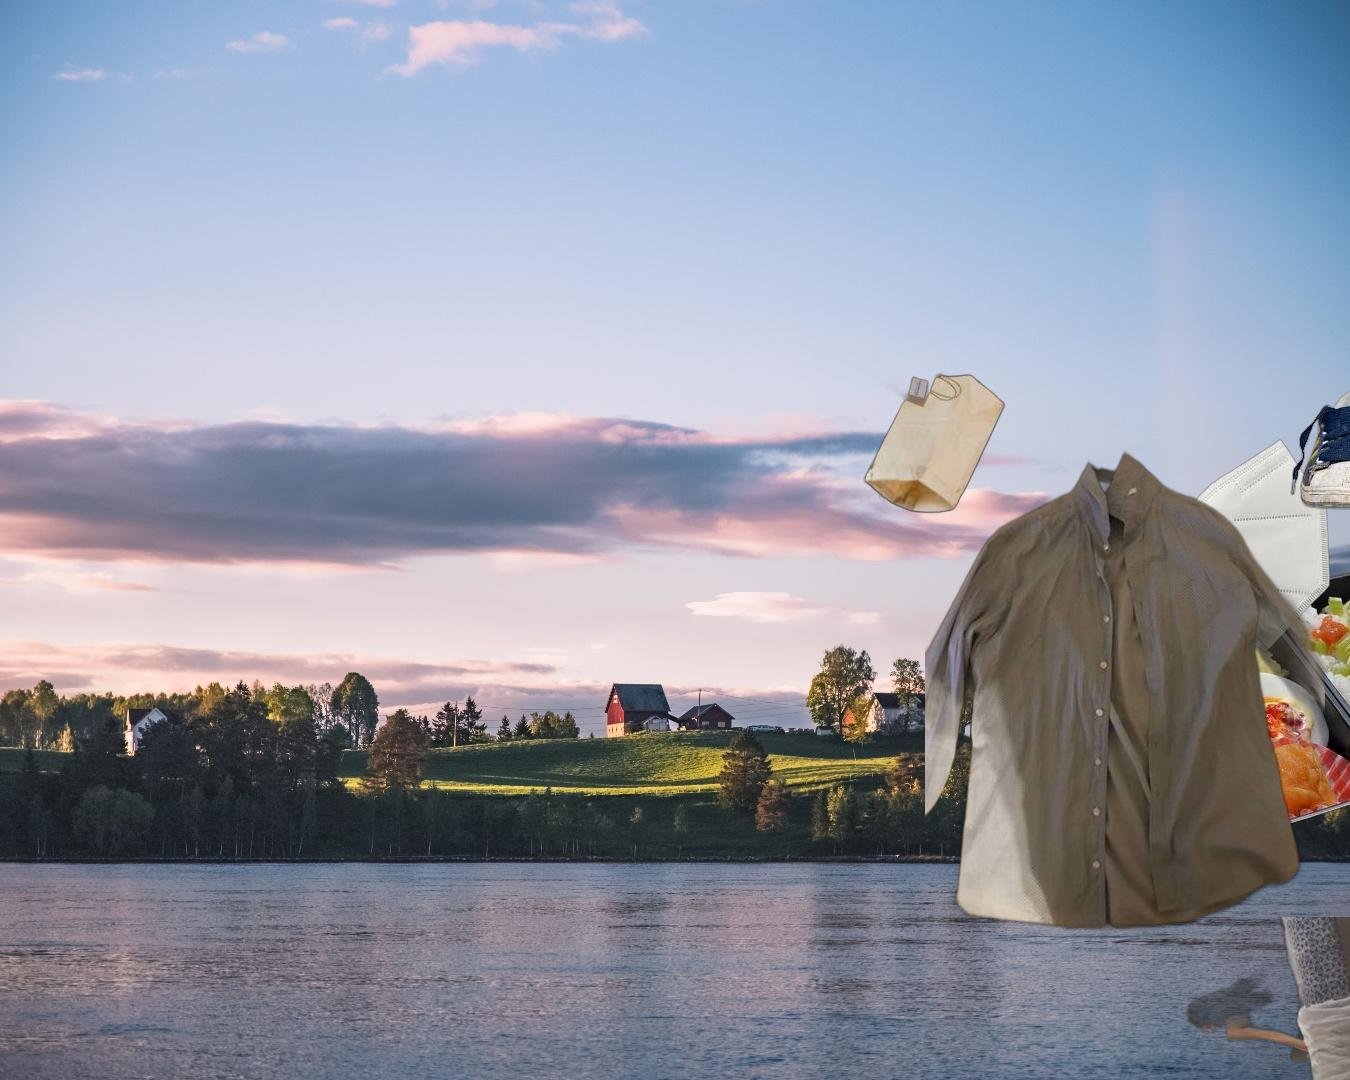biological: (1065, 560, 1350, 843)
clothes: (925, 447, 1325, 943)
paper: (1182, 917, 1350, 1080)
paper-bag: (858, 348, 1008, 516)
shoes: (1289, 386, 1350, 512)
trash: (1117, 438, 1333, 655)
